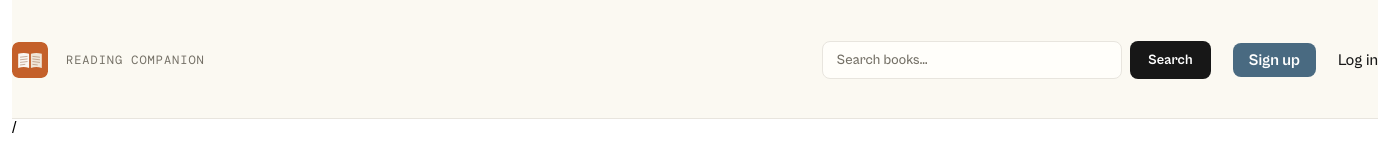
Test: Header search › submits the form when Enter is pressed in the search input
Type "react" into the search field at (972, 60), box [822,41,1122,79]
Then press Enter
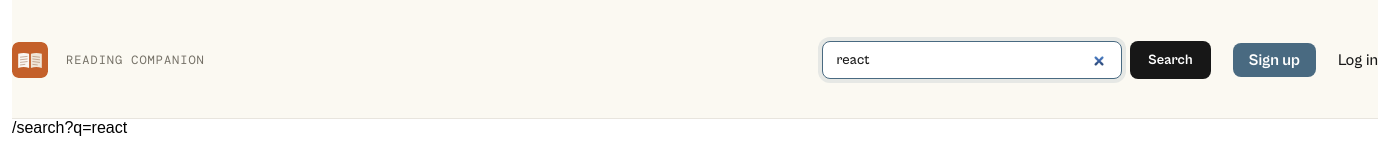
Check: the text with test id "location" reads "/search?q=react", box [12,119,127,136]
